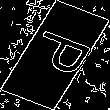P_SE: (16, 28, 94, 82)
